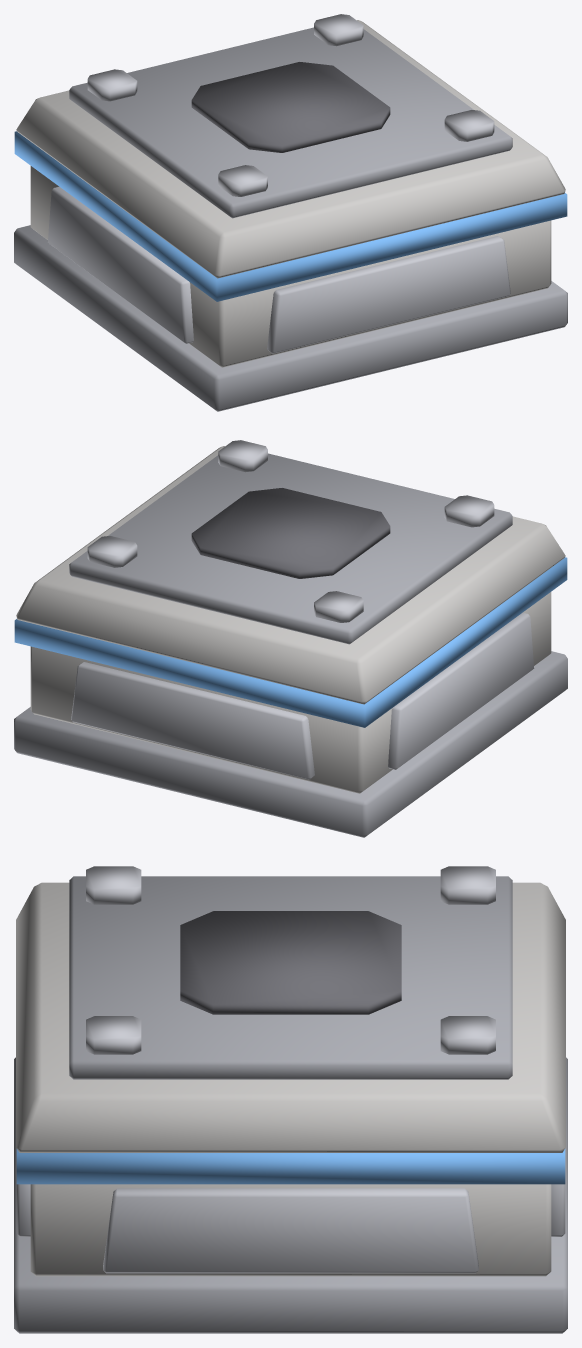
The model's file is wall.glb.
The picture shows the model from 3 angles, top to bottom: view 1: azimuth 30°, elevation 25°; view 2: azimuth 150°, elevation 25°; view 3: azimuth 270°, elevation 25°; orthographic projection. The views are drawn at different scales.
Parts seen in each view (by area): view 1: body; view 2: body; view 3: body.
Part boxes in pixels (bbox=[...]): body: bbox=[14, 14, 567, 411]; body: bbox=[14, 440, 567, 837]; body: bbox=[14, 866, 567, 1333].
Size of the model in its own units: 1 by 0.53 by 1.
